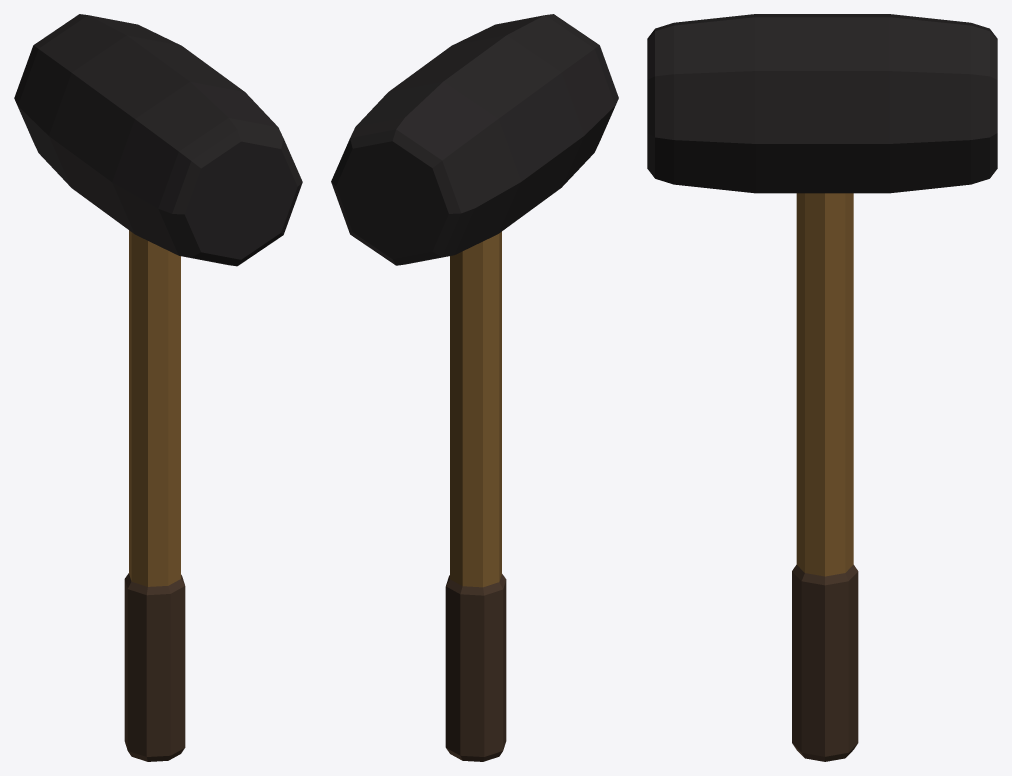
The model's file is Mallet.fbx.
The picture shows the model from 3 angles, left to right: view 1: azimuth 30°, elevation 25°; view 2: azimuth 150°, elevation 25°; view 3: azimuth 270°, elevation 25°; orthographic projection. The views are drawn at different scales.
Visible parts, largest first — view 1: Mallet; view 2: Mallet; view 3: Mallet.
Part boxes in pixels (x1,y1,x2,y2): Mallet: [14, 14, 302, 761]; Mallet: [331, 14, 618, 761]; Mallet: [647, 14, 997, 761].
Size of the model in its own units: 27.02 by 115 by 49.57.
